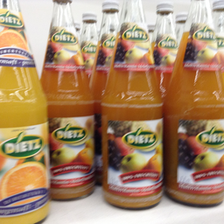juice: (102, 1, 165, 210), (163, 1, 223, 207), (40, 1, 95, 200), (1, 1, 50, 224)
